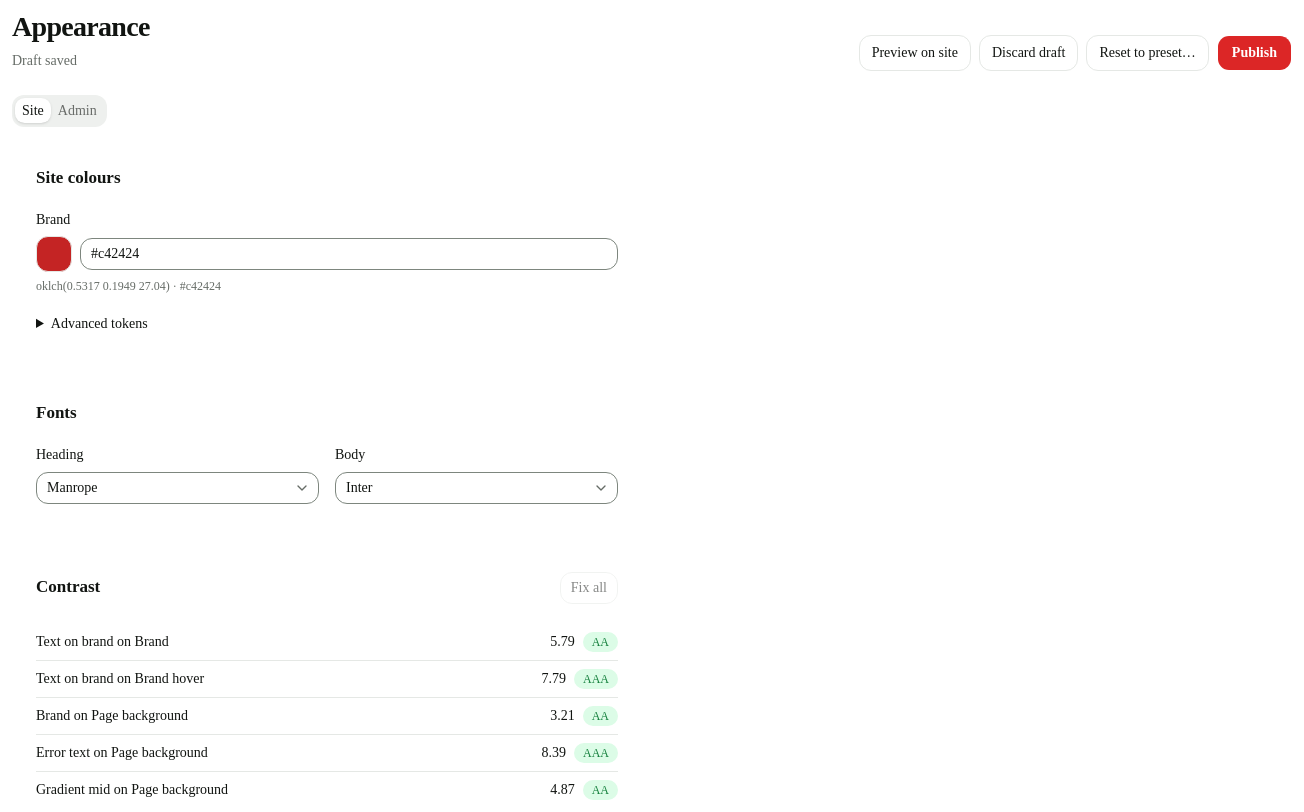
AppearanceView › publishes with the current version and toasts
Click the button "Publish" at (1254, 53), box [1217,35,1292,71]
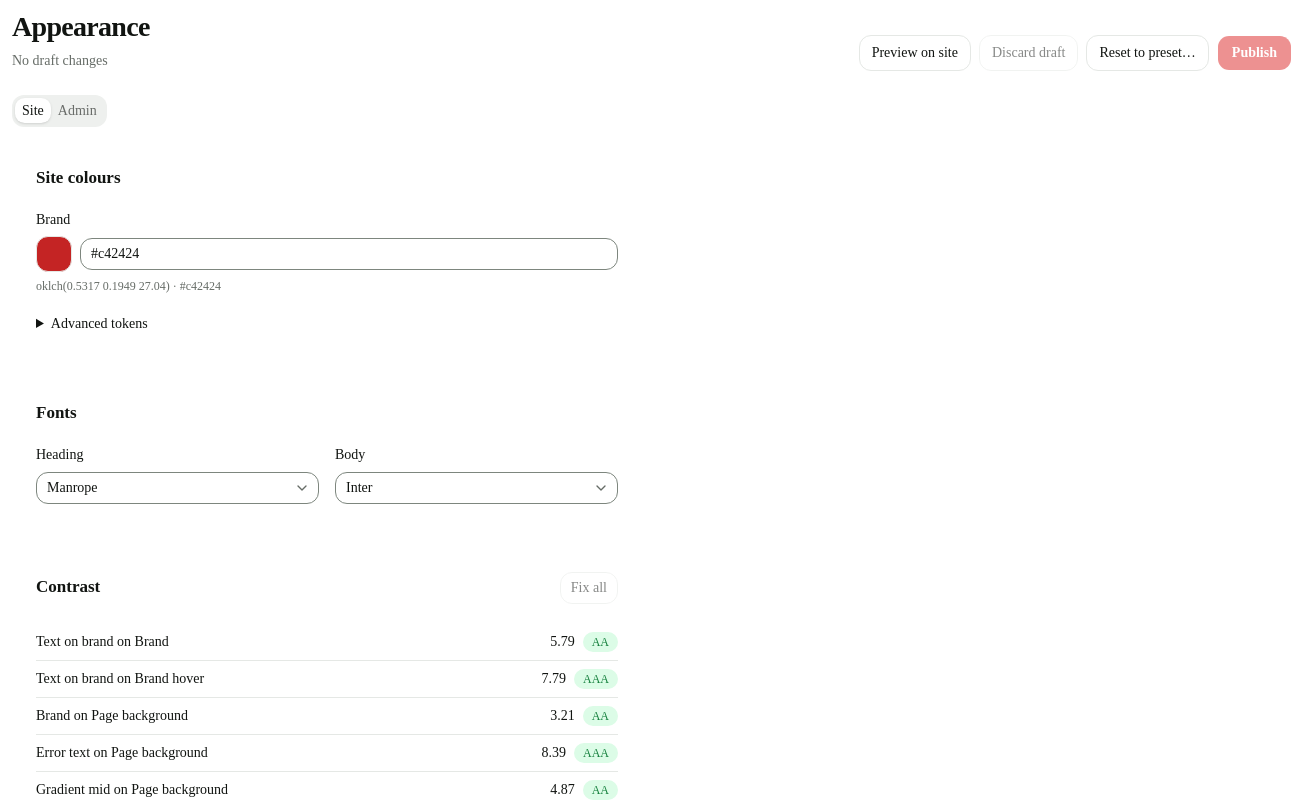
expect the button "Publish" is disabled: met, box [1217,35,1292,71]
